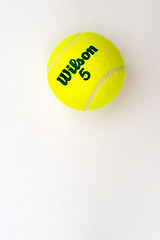tennis ball: (46, 32, 125, 111)
